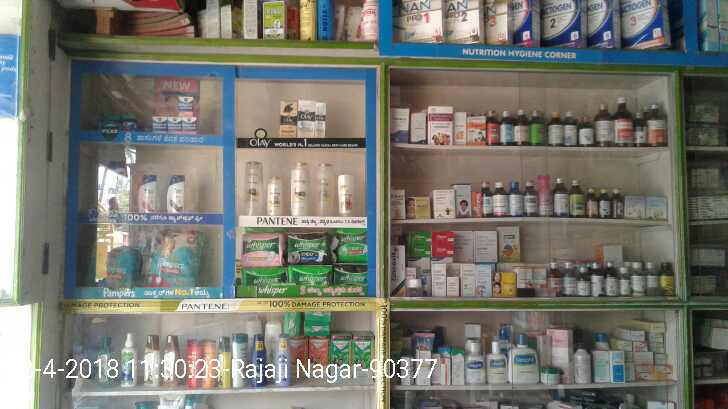vicks: (152, 89, 197, 132), (104, 111, 140, 131)
